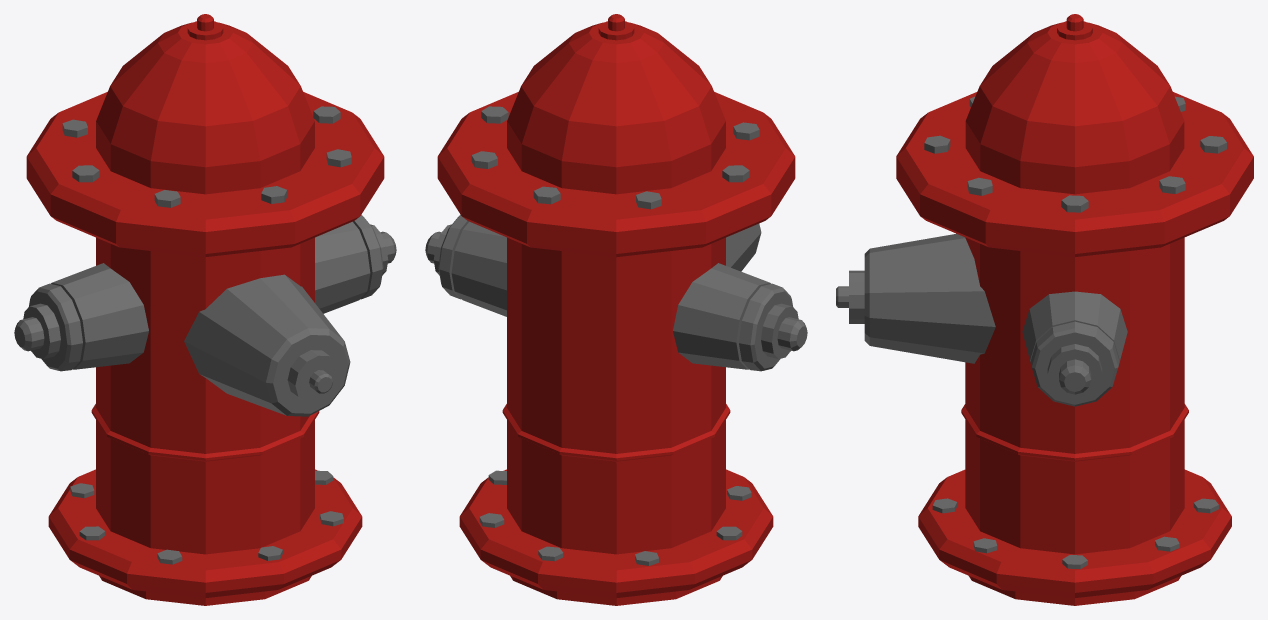
File: hydrant.fbx
3 renders of one model, left to right at view 1: azimuth 30°, elevation 25°; view 2: azimuth 150°, elevation 25°; view 3: azimuth 270°, elevation 25°, orthographic.
Visible parts, largest first — view 1: Fire Hydrant; view 2: Fire Hydrant; view 3: Fire Hydrant.
Boxes of the visible parts, box(x1,y1,x2,y2) form: Fire Hydrant: box(14, 14, 396, 605); Fire Hydrant: box(425, 14, 807, 605); Fire Hydrant: box(836, 14, 1253, 605).
Bounding box in the file's own units: 359 × 499 × 350.
